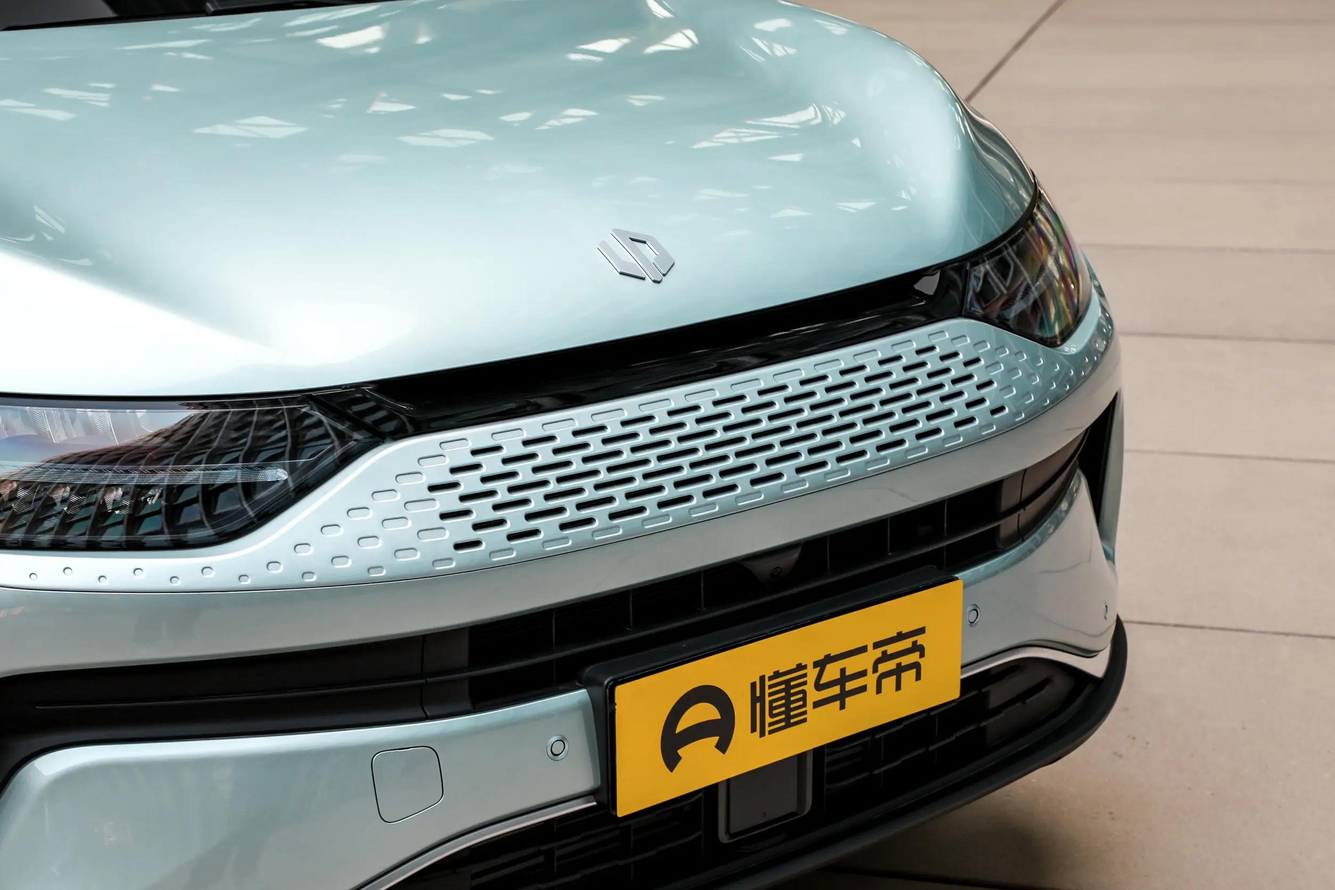LEAPMOTOR: (597, 224, 677, 284)
